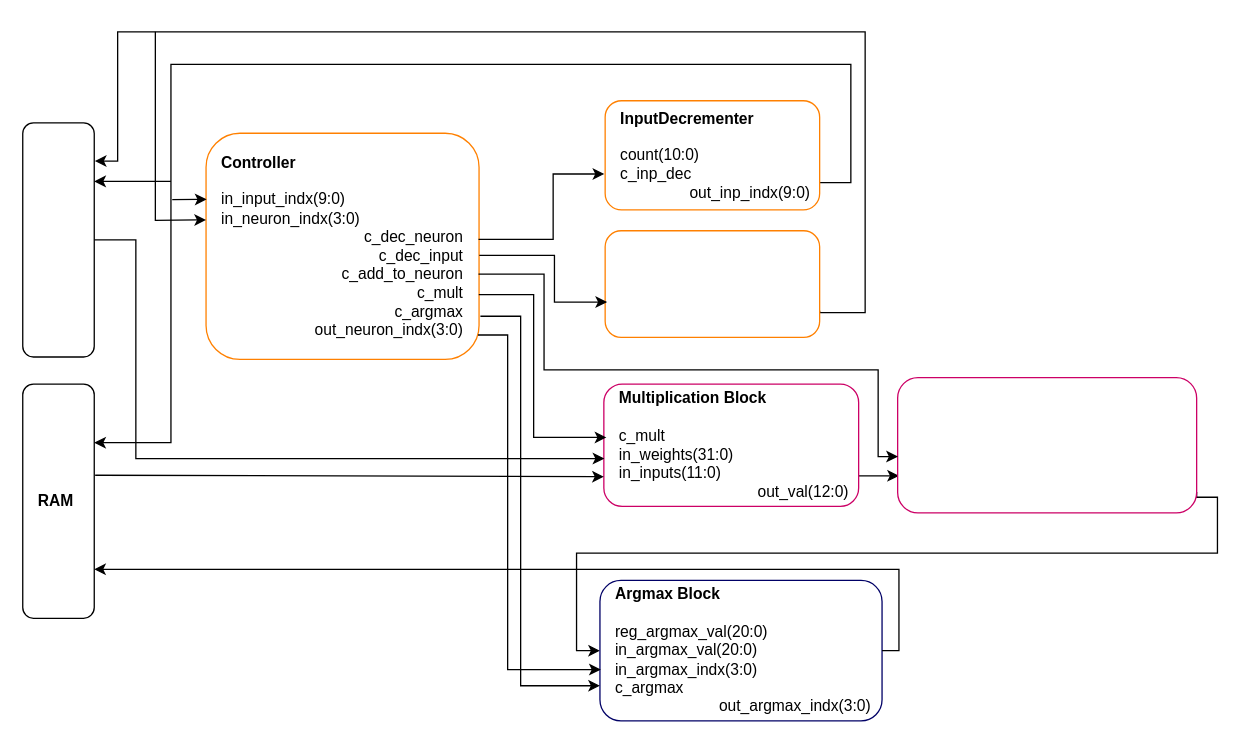
Some shapes in this 1251 by 744 pixel diagram are drawn without their labels. The shapes that lost their labels are listed below. From the top down, each one's centre as x and y in pixels, then its label:
At [57,239]: "ROM".
At [712,283]: "NeuronDecrementer count(4:0) c_neuron_dec out_neuron_indx(3:0)".
At [1046,444]: "Neuron Reg reg_nreg(20:0) c_nreg in_nreg_val(12:0) out_nreg_val(20:0)".
